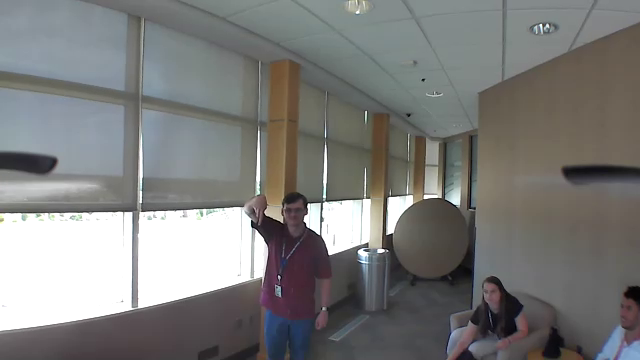down: (249, 190, 272, 231)
